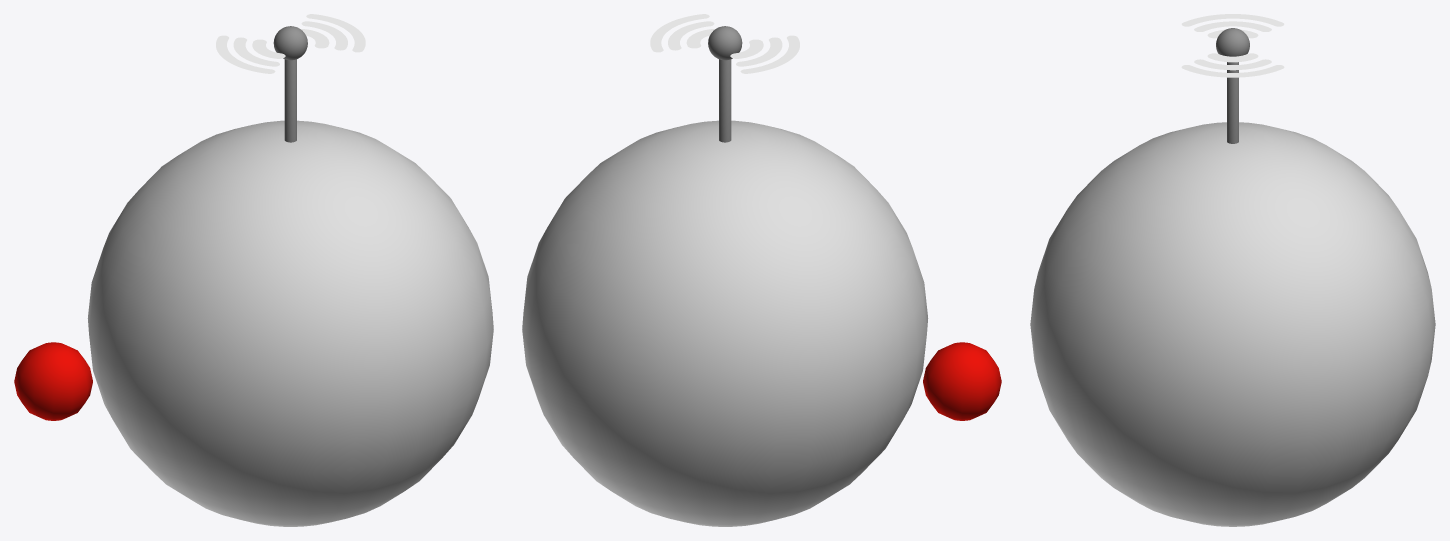
Rendered from globe.glb.
3 renders of one model, left to right at view 1: azimuth 30°, elevation 25°; view 2: azimuth 150°, elevation 25°; view 3: azimuth 270°, elevation 25°, orthographic.
Parts seen in each view (by area): view 1: Globe, Moon, Signal_Outer, Antenna, AntennaTop, Signal_Middle, Signal_Inner; view 2: Globe, Moon, Signal_Outer, Antenna, AntennaTop, Signal_Middle, Signal_Inner; view 3: Globe, Signal_Outer, Signal_Middle, Antenna, AntennaTop, Signal_Inner.
Boxes of the visible parts, left/top/right/bottom form: Globe: left=87, top=120, right=493, bottom=526; Moon: left=14, top=342, right=92, bottom=420; Signal_Outer: left=216, top=14, right=365, bottom=73; Antenna: left=284, top=59, right=296, bottom=142; AntennaTop: left=273, top=26, right=307, bottom=60; Signal_Middle: left=233, top=21, right=347, bottom=66; Signal_Inner: left=252, top=29, right=329, bottom=58; Globe: left=522, top=120, right=928, bottom=526; Moon: left=923, top=342, right=1001, bottom=420; Signal_Outer: left=650, top=14, right=799, bottom=73; Antenna: left=719, top=59, right=731, bottom=142; AntennaTop: left=708, top=26, right=742, bottom=60; Signal_Middle: left=668, top=21, right=782, bottom=66; Signal_Inner: left=686, top=29, right=763, bottom=58; Globe: left=1030, top=122, right=1435, bottom=526; Signal_Outer: left=1181, top=14, right=1284, bottom=77; Signal_Middle: left=1194, top=21, right=1271, bottom=70; Antenna: left=1227, top=62, right=1238, bottom=143; AntennaTop: left=1216, top=28, right=1249, bottom=56; Signal_Inner: left=1207, top=29, right=1258, bottom=62.
Size of the model in its own units: 2.54 by 2.61 by 2.
